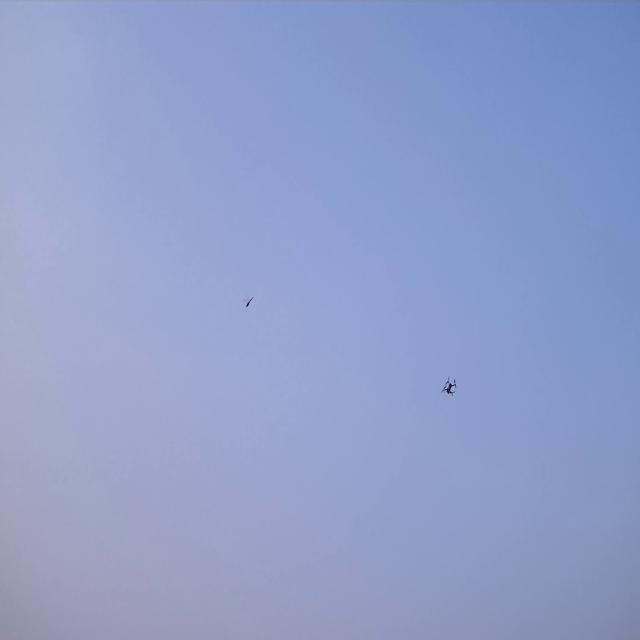UAV: (441, 374, 458, 396)
